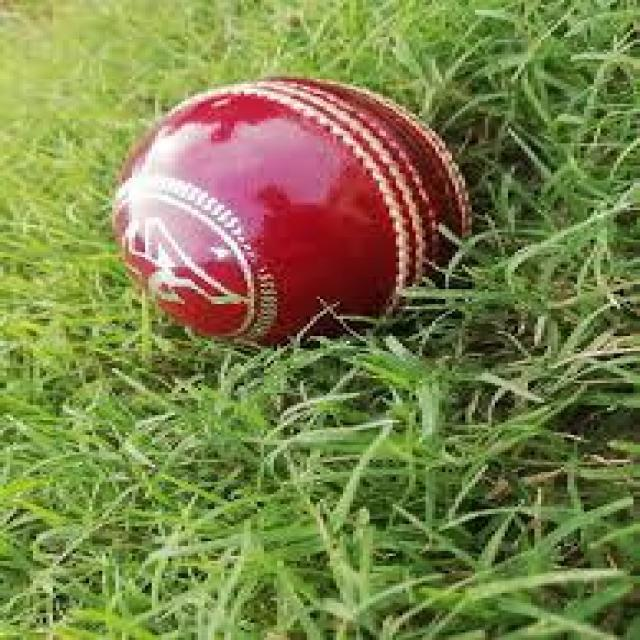ball: (109, 79, 475, 336)
